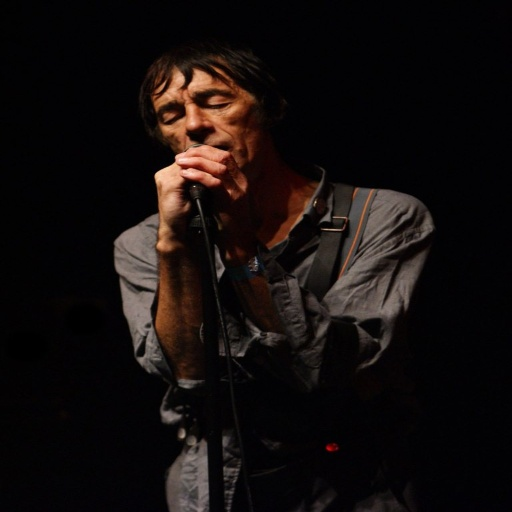hand: (170, 143, 263, 241)
